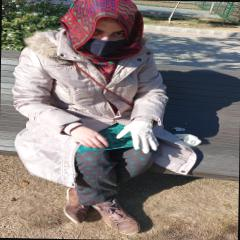gloved: (117, 120, 160, 152)
not-gloved: (69, 125, 110, 148)
